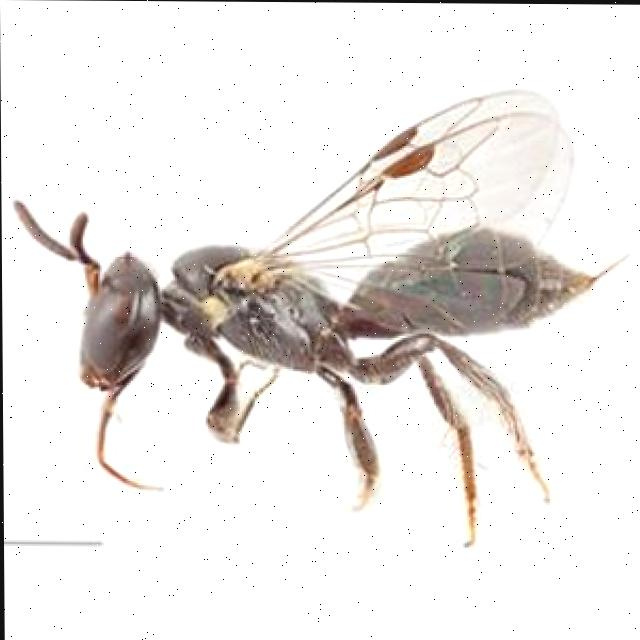Braunsapis: (24, 104, 617, 540)
